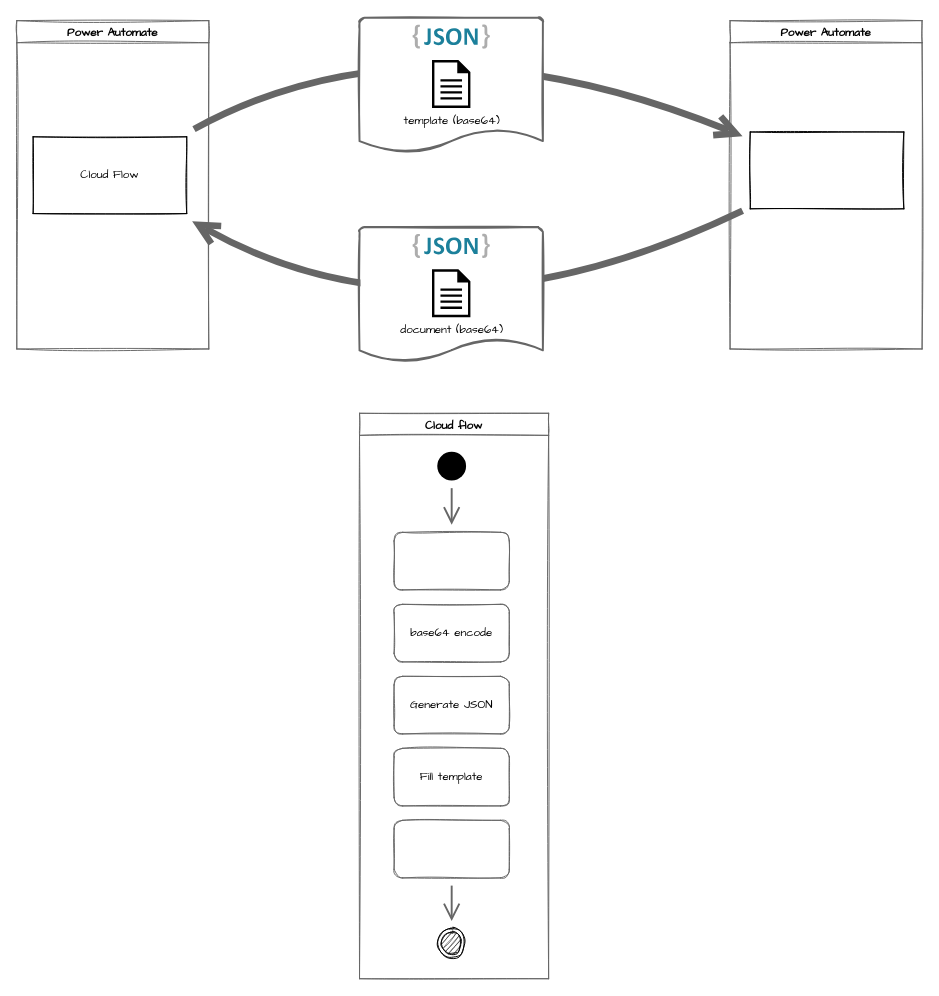
Some shapes in this 939 by 996 pixel diagram are drawn without their labels. The centre of each missing label's shape, as x and y in pixels:
Load the template: the point at 451,560
NovoDocx: the point at 826,170
Store the document: the point at 451,848
